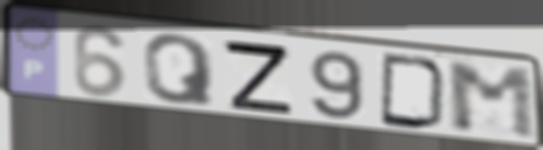6: (69, 23, 132, 100)
9: (303, 48, 367, 123)
D: (377, 50, 452, 133)
M: (443, 61, 542, 143)
Q: (140, 32, 218, 109)
Z: (219, 37, 296, 117)
